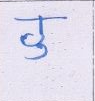u_matra: (24, 44, 50, 61)
